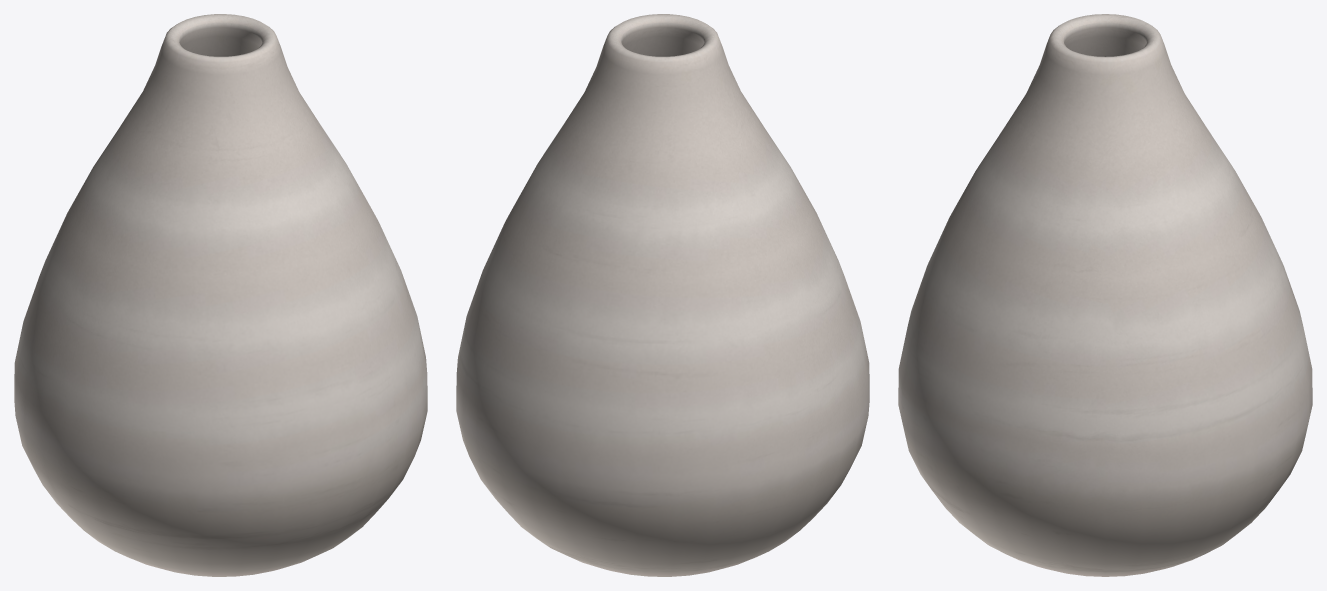
The model's file is vase02.fbx.
3 views of the same model, side by side, from view 1: azimuth 30°, elevation 25°; view 2: azimuth 150°, elevation 25°; view 3: azimuth 270°, elevation 25° (orthographic).
Visible parts, largest first — view 1: vases.001; view 2: vases.001; view 3: vases.001.
Part boxes in pixels (x1,y1,x2,y2): vases.001: (14, 14, 427, 576); vases.001: (456, 14, 869, 576); vases.001: (898, 14, 1312, 576).
Size of the model in its own units: 15.32 by 20.38 by 15.32.
